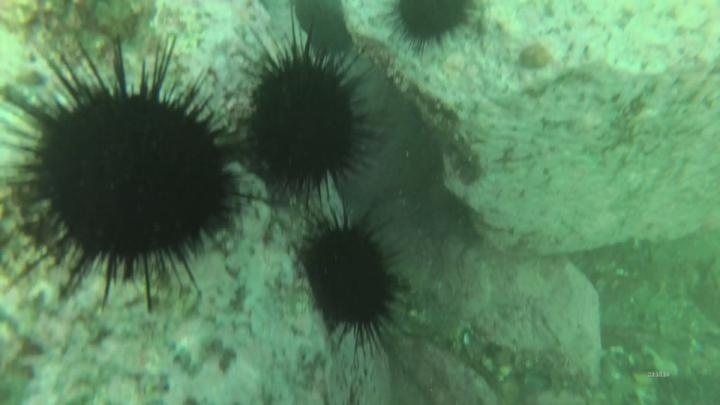echinus: (1, 33, 259, 303), (234, 33, 384, 210), (295, 211, 406, 349), (385, 1, 479, 55)
